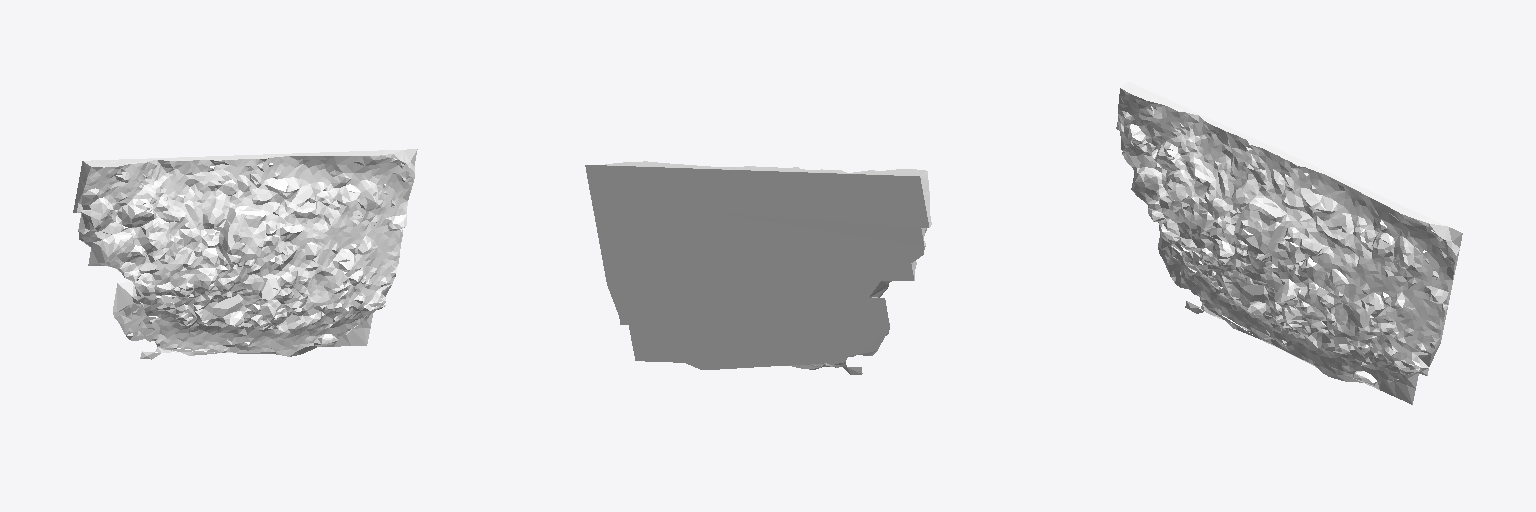
File: Vrocks1.obj
The picture shows the model from 3 angles: view 1: azimuth 30°, elevation 25°; view 2: azimuth 150°, elevation 25°; view 3: azimuth 330°, elevation 25°; orthographic projection.
Visible parts, largest first — view 1: default; view 2: default; view 3: default.
Boxes of the visible parts, <box> form: default: <box>73,149,417,359</box>; default: <box>585,161,931,374</box>; default: <box>1116,82,1462,404</box>.
Bounding box in the file's own units: 73.57 × 51.89 × 7.89.